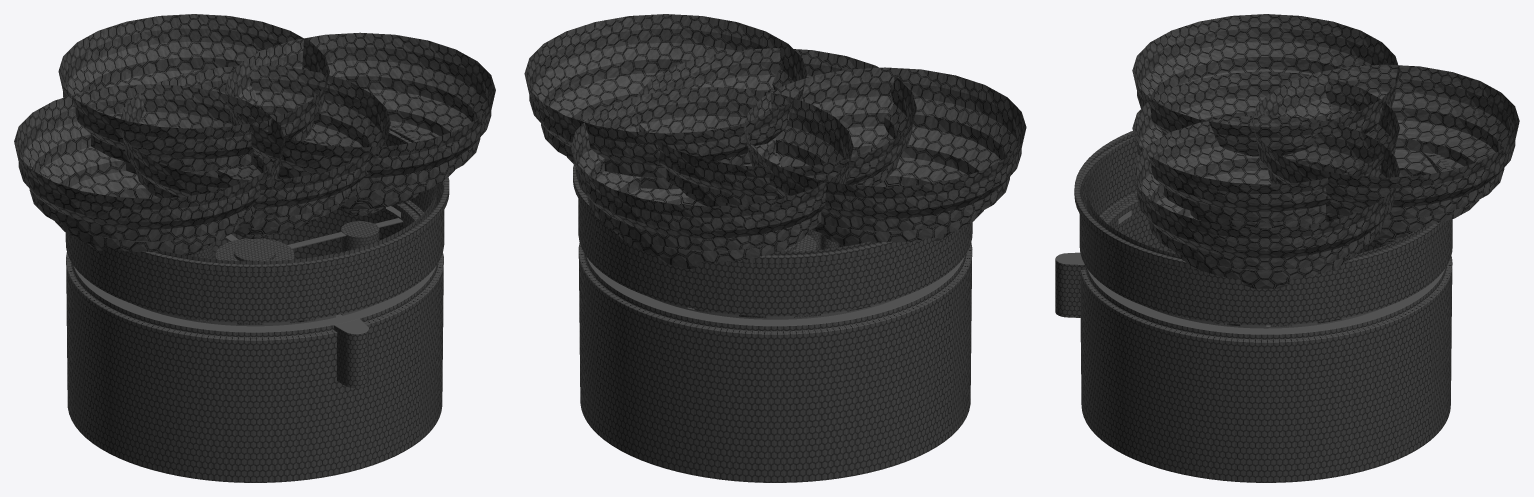
File: stage_1F_tilling.fbx
The picture shows the model from 3 angles, left to right: view 1: azimuth 30°, elevation 25°; view 2: azimuth 150°, elevation 25°; view 3: azimuth 270°, elevation 25°; orthographic projection. The views are drawn at different scales.
Visible parts, largest first — view 1: pCylinder867; view 2: pCylinder867; view 3: pCylinder867.
Part boxes in pixels (<box>): pCylinder867: <box>14,14,495,482</box>; pCylinder867: <box>524,14,1026,482</box>; pCylinder867: <box>1055,14,1519,482</box>.
Bounding box in the file's own units: 18293 × 11435 × 16757.
2 materials, 2 textured.
